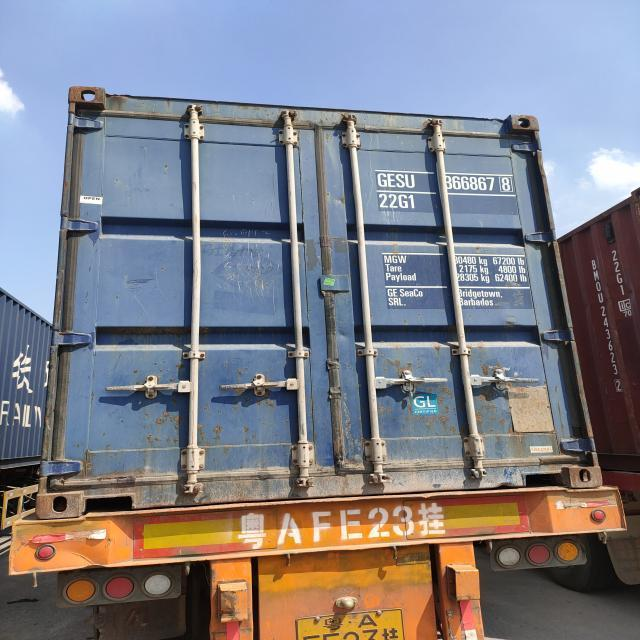ISO: (379, 196, 423, 210)
container_number: (377, 176, 513, 194)
